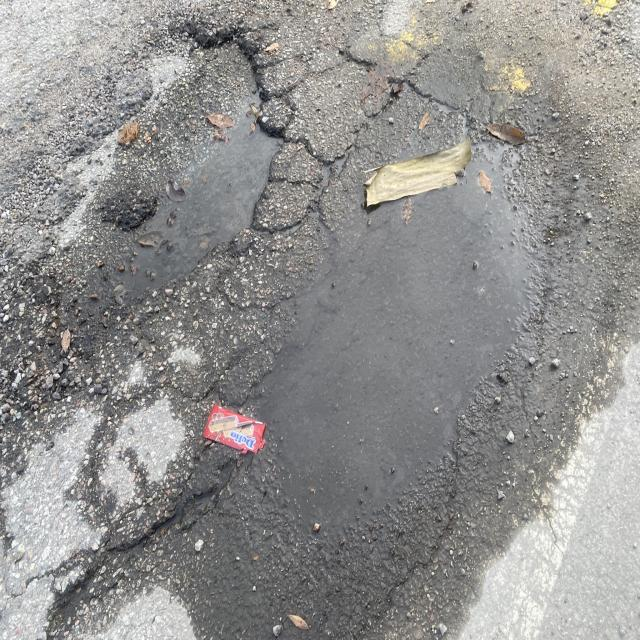pothole: (144, 0, 309, 236), (95, 442, 240, 602)
